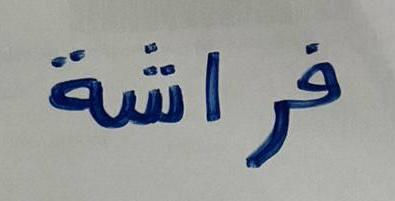alef: (188, 34, 235, 139)
feh: (296, 30, 356, 121)
reh: (237, 84, 295, 183)
sheen: (112, 24, 186, 149)
teh_marbota: (35, 29, 109, 155)
